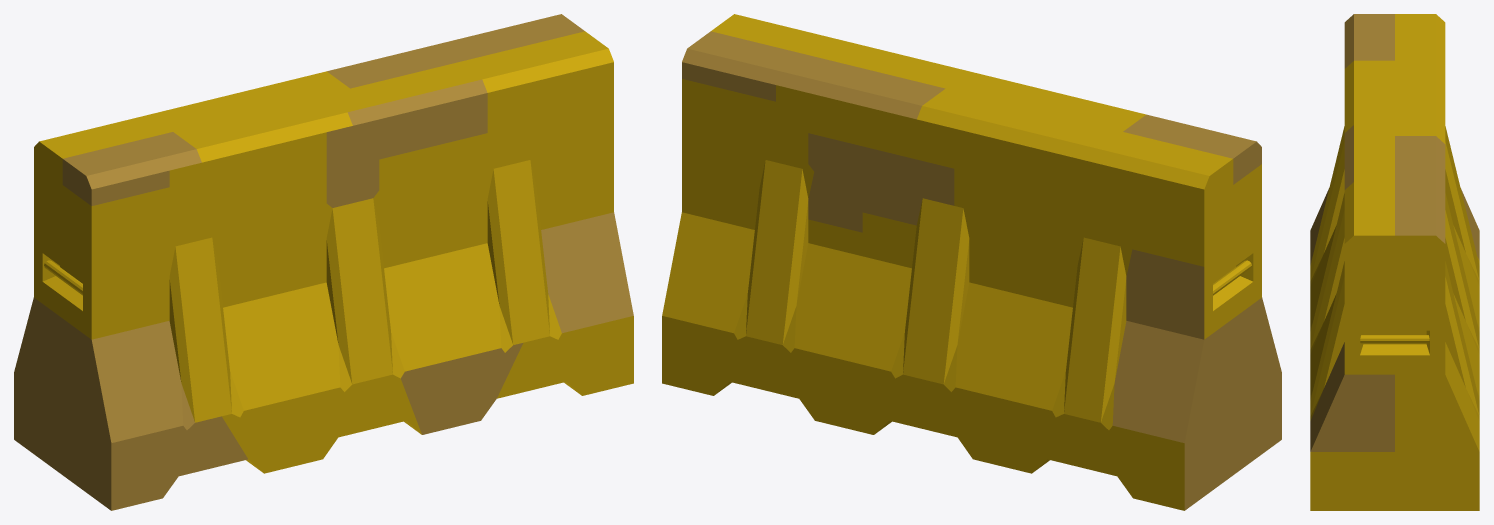
The model's file is cc0-plastic-barrier-lod1.glb.
3 views of the same model, side by side, from view 1: azimuth 30°, elevation 25°; view 2: azimuth 150°, elevation 25°; view 3: azimuth 270°, elevation 25° (orthographic). The views are drawn at different scales.
Visible parts, largest first — view 1: part_0; view 2: part_0; view 3: part_0.
Part boxes in pixels (<box>): part_0: <box>14,14,633,510</box>; part_0: <box>662,14,1281,510</box>; part_0: <box>1310,14,1479,510</box>.
Bounding box in the file's own units: 1.04 × 0.5995 × 0.3339.
Materials: 1 (1 with a texture image).
